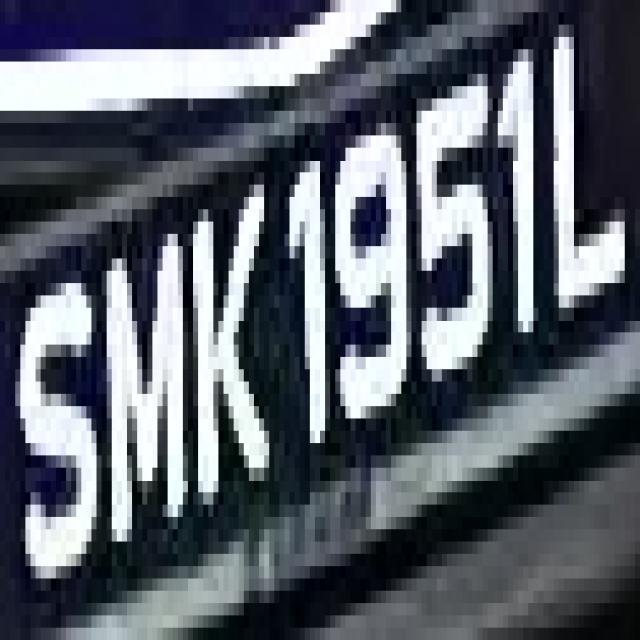1: (274, 123, 336, 517), (492, 24, 548, 393)
5: (401, 62, 493, 443)
9: (310, 110, 421, 468)
K: (173, 160, 274, 529)
L: (543, 0, 640, 369)
M: (86, 197, 193, 566)
S: (5, 271, 102, 615)
